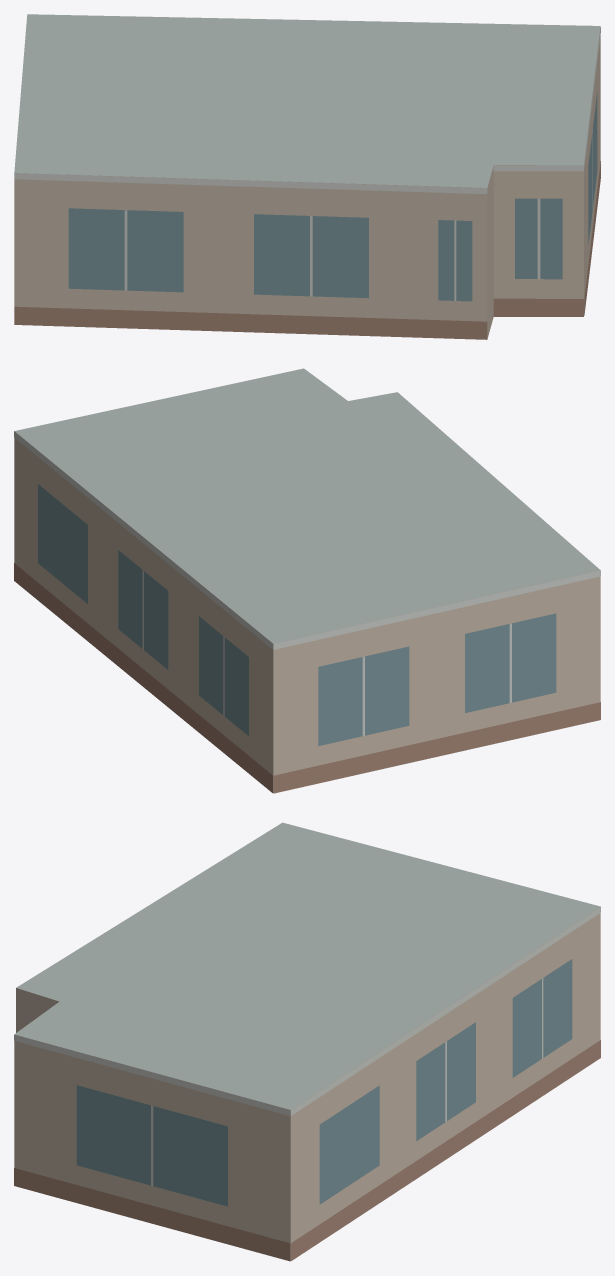
File: survey-upis-32723913.glb
3 views of the same model, one above another, from view 1: azimuth 30°, elevation 25°; view 2: azimuth 150°, elevation 25°; view 3: azimuth 270°, elevation 25° (orthographic).
Parts seen in each view (by area): view 1: survey-upis-32723913.tmp; view 2: survey-upis-32723913.tmp; view 3: survey-upis-32723913.tmp.
Boxes of the visible parts, x1=… form: survey-upis-32723913.tmp: x1=14, y1=14, x2=600, y2=339; survey-upis-32723913.tmp: x1=14, y1=368, x2=600, y2=793; survey-upis-32723913.tmp: x1=14, y1=822, x2=600, y2=1261.
Bounding box in the file's own units: 12.43 × 3.05 × 10.72.
